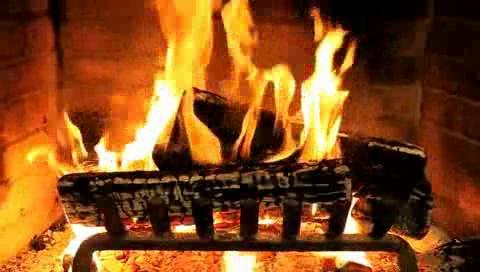fire: (103, 3, 357, 188)
